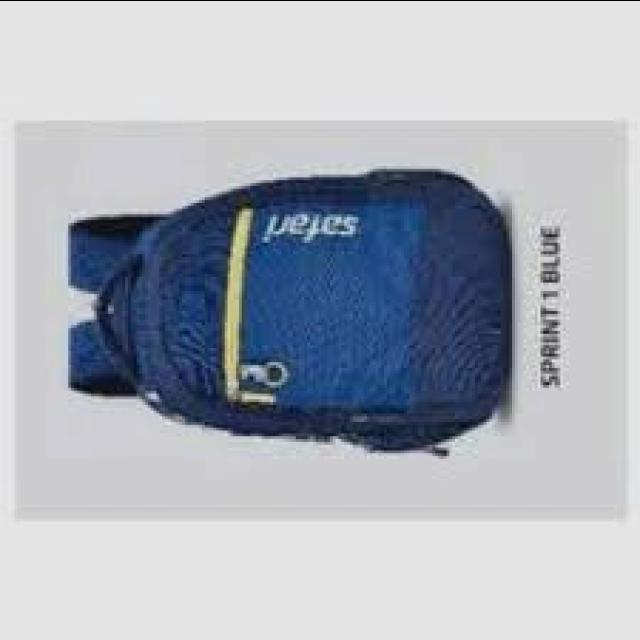backpack: (67, 169, 511, 459)
